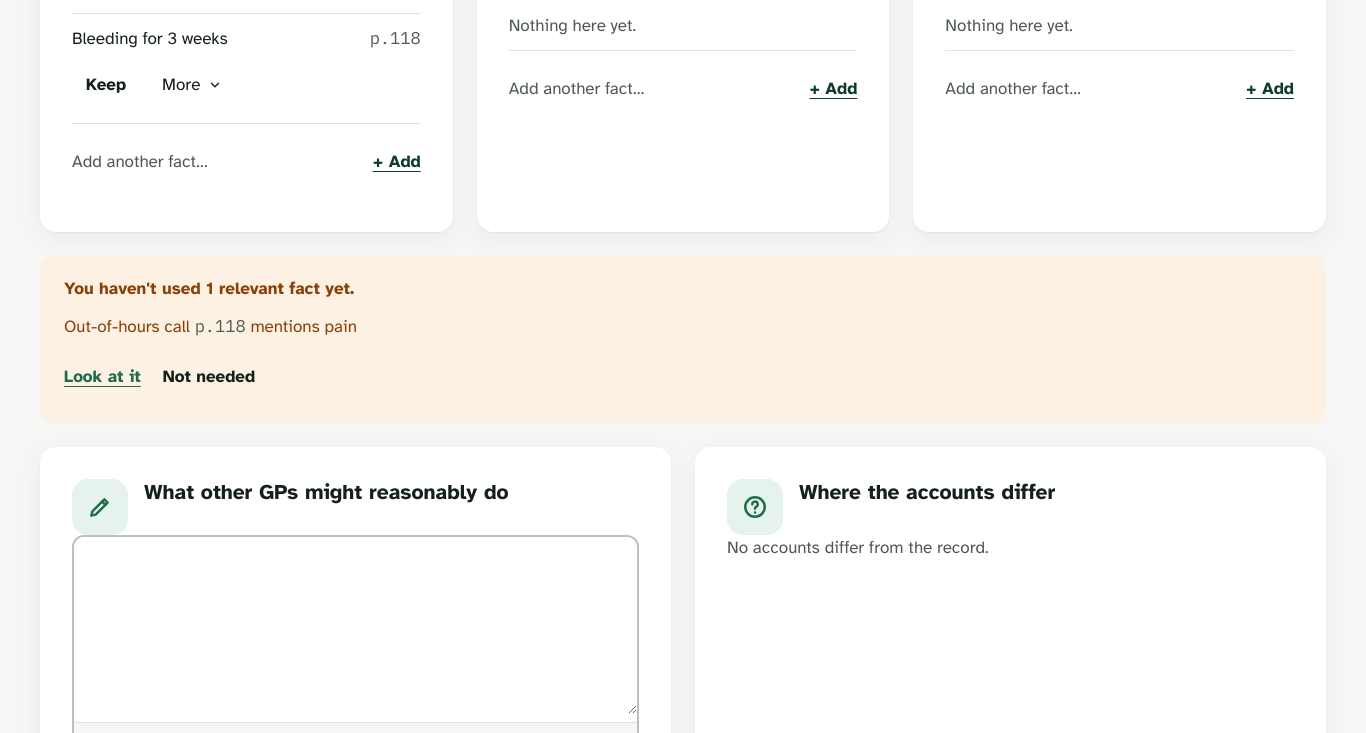
Test: a relevant fact can be dismissed
The width and height of the screenshot is (1366, 733).
(page scrolled)
Expected: the text "You haven't used 1 relevant fact yet." is shown, [64,278,354,299]
Expected: the text "mentions pain" is shown, [250,316,357,336]
Click the button "Not needed" at point(209, 377), box [149,351,269,403]
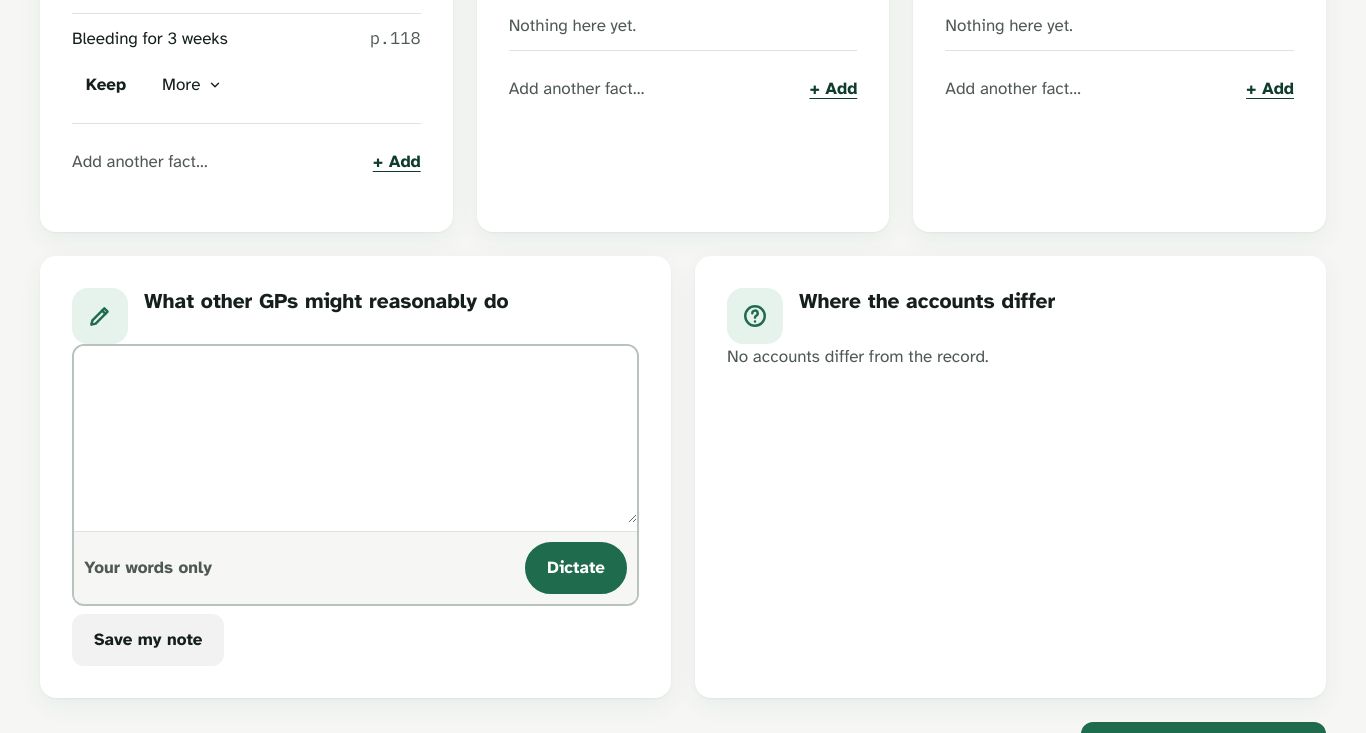
Expected: the text "mentions pain" is gone
